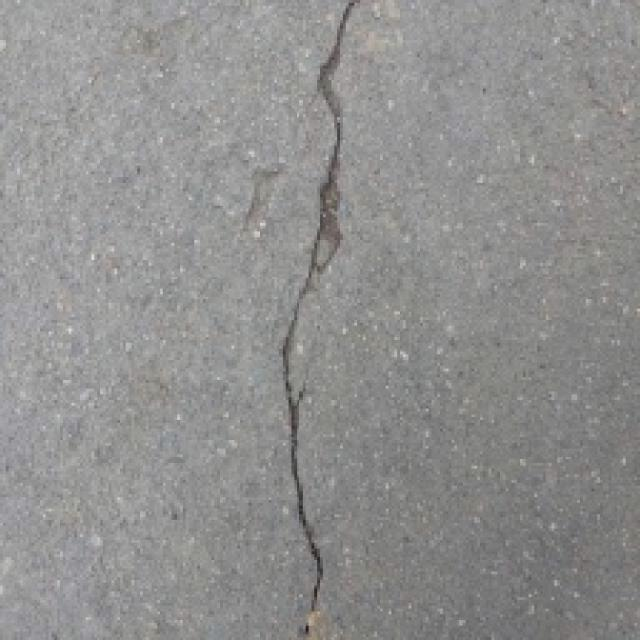SurfaceCrack: (246, 0, 402, 640)
